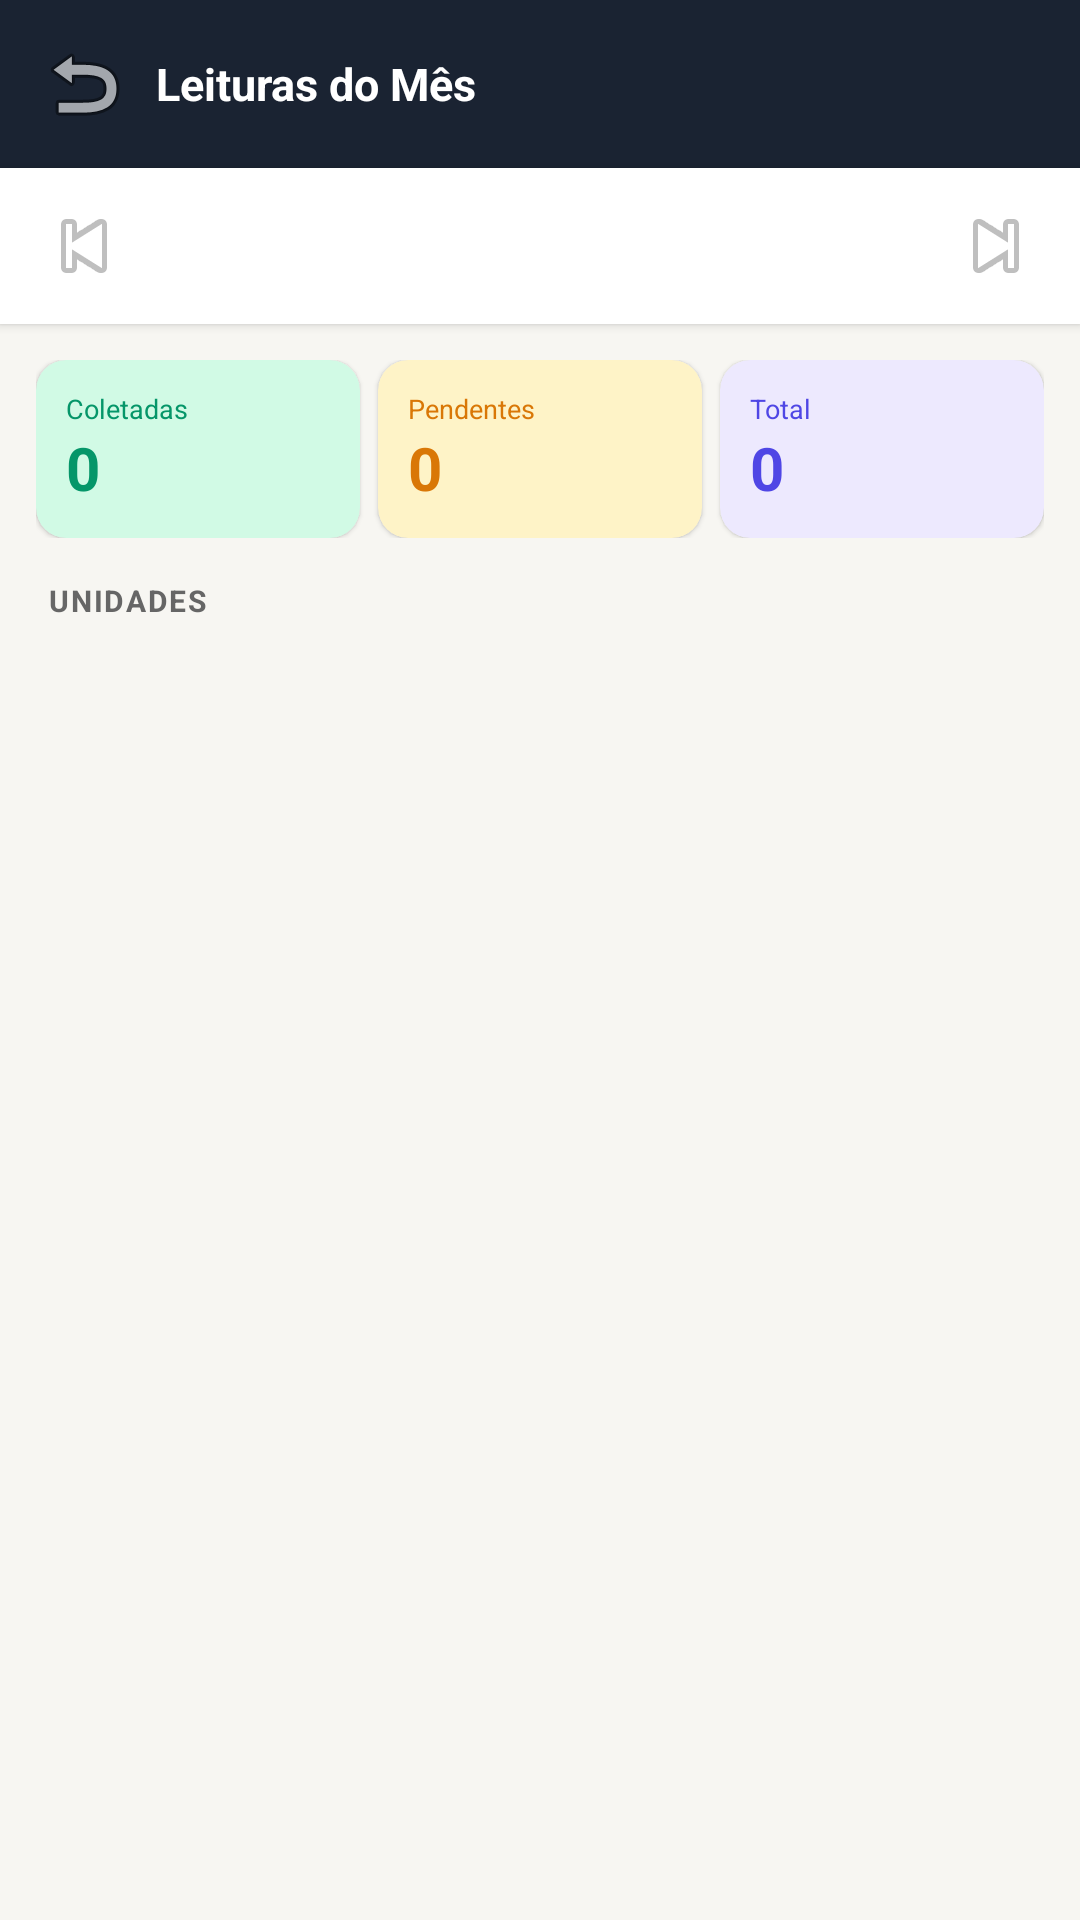

Screen size 1080 x 1920. Icon name, then its center in pixels as point (x, y):
Mês anterior: point (84, 246)
Próximo mês: point (996, 246)
Voltar: point (85, 85)
